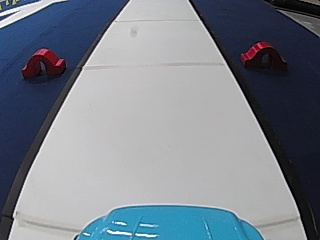bridge: (20, 45, 67, 79), (238, 38, 287, 70)
